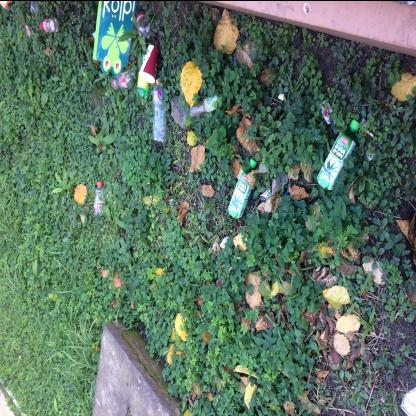cam: (316, 118, 360, 190), (227, 158, 257, 218)
karton: (91, 1, 137, 77), (138, 43, 160, 82), (0, 0, 14, 8)
plastik: (152, 78, 166, 142), (190, 94, 218, 116), (111, 68, 134, 90), (94, 180, 104, 214), (40, 16, 60, 32)
